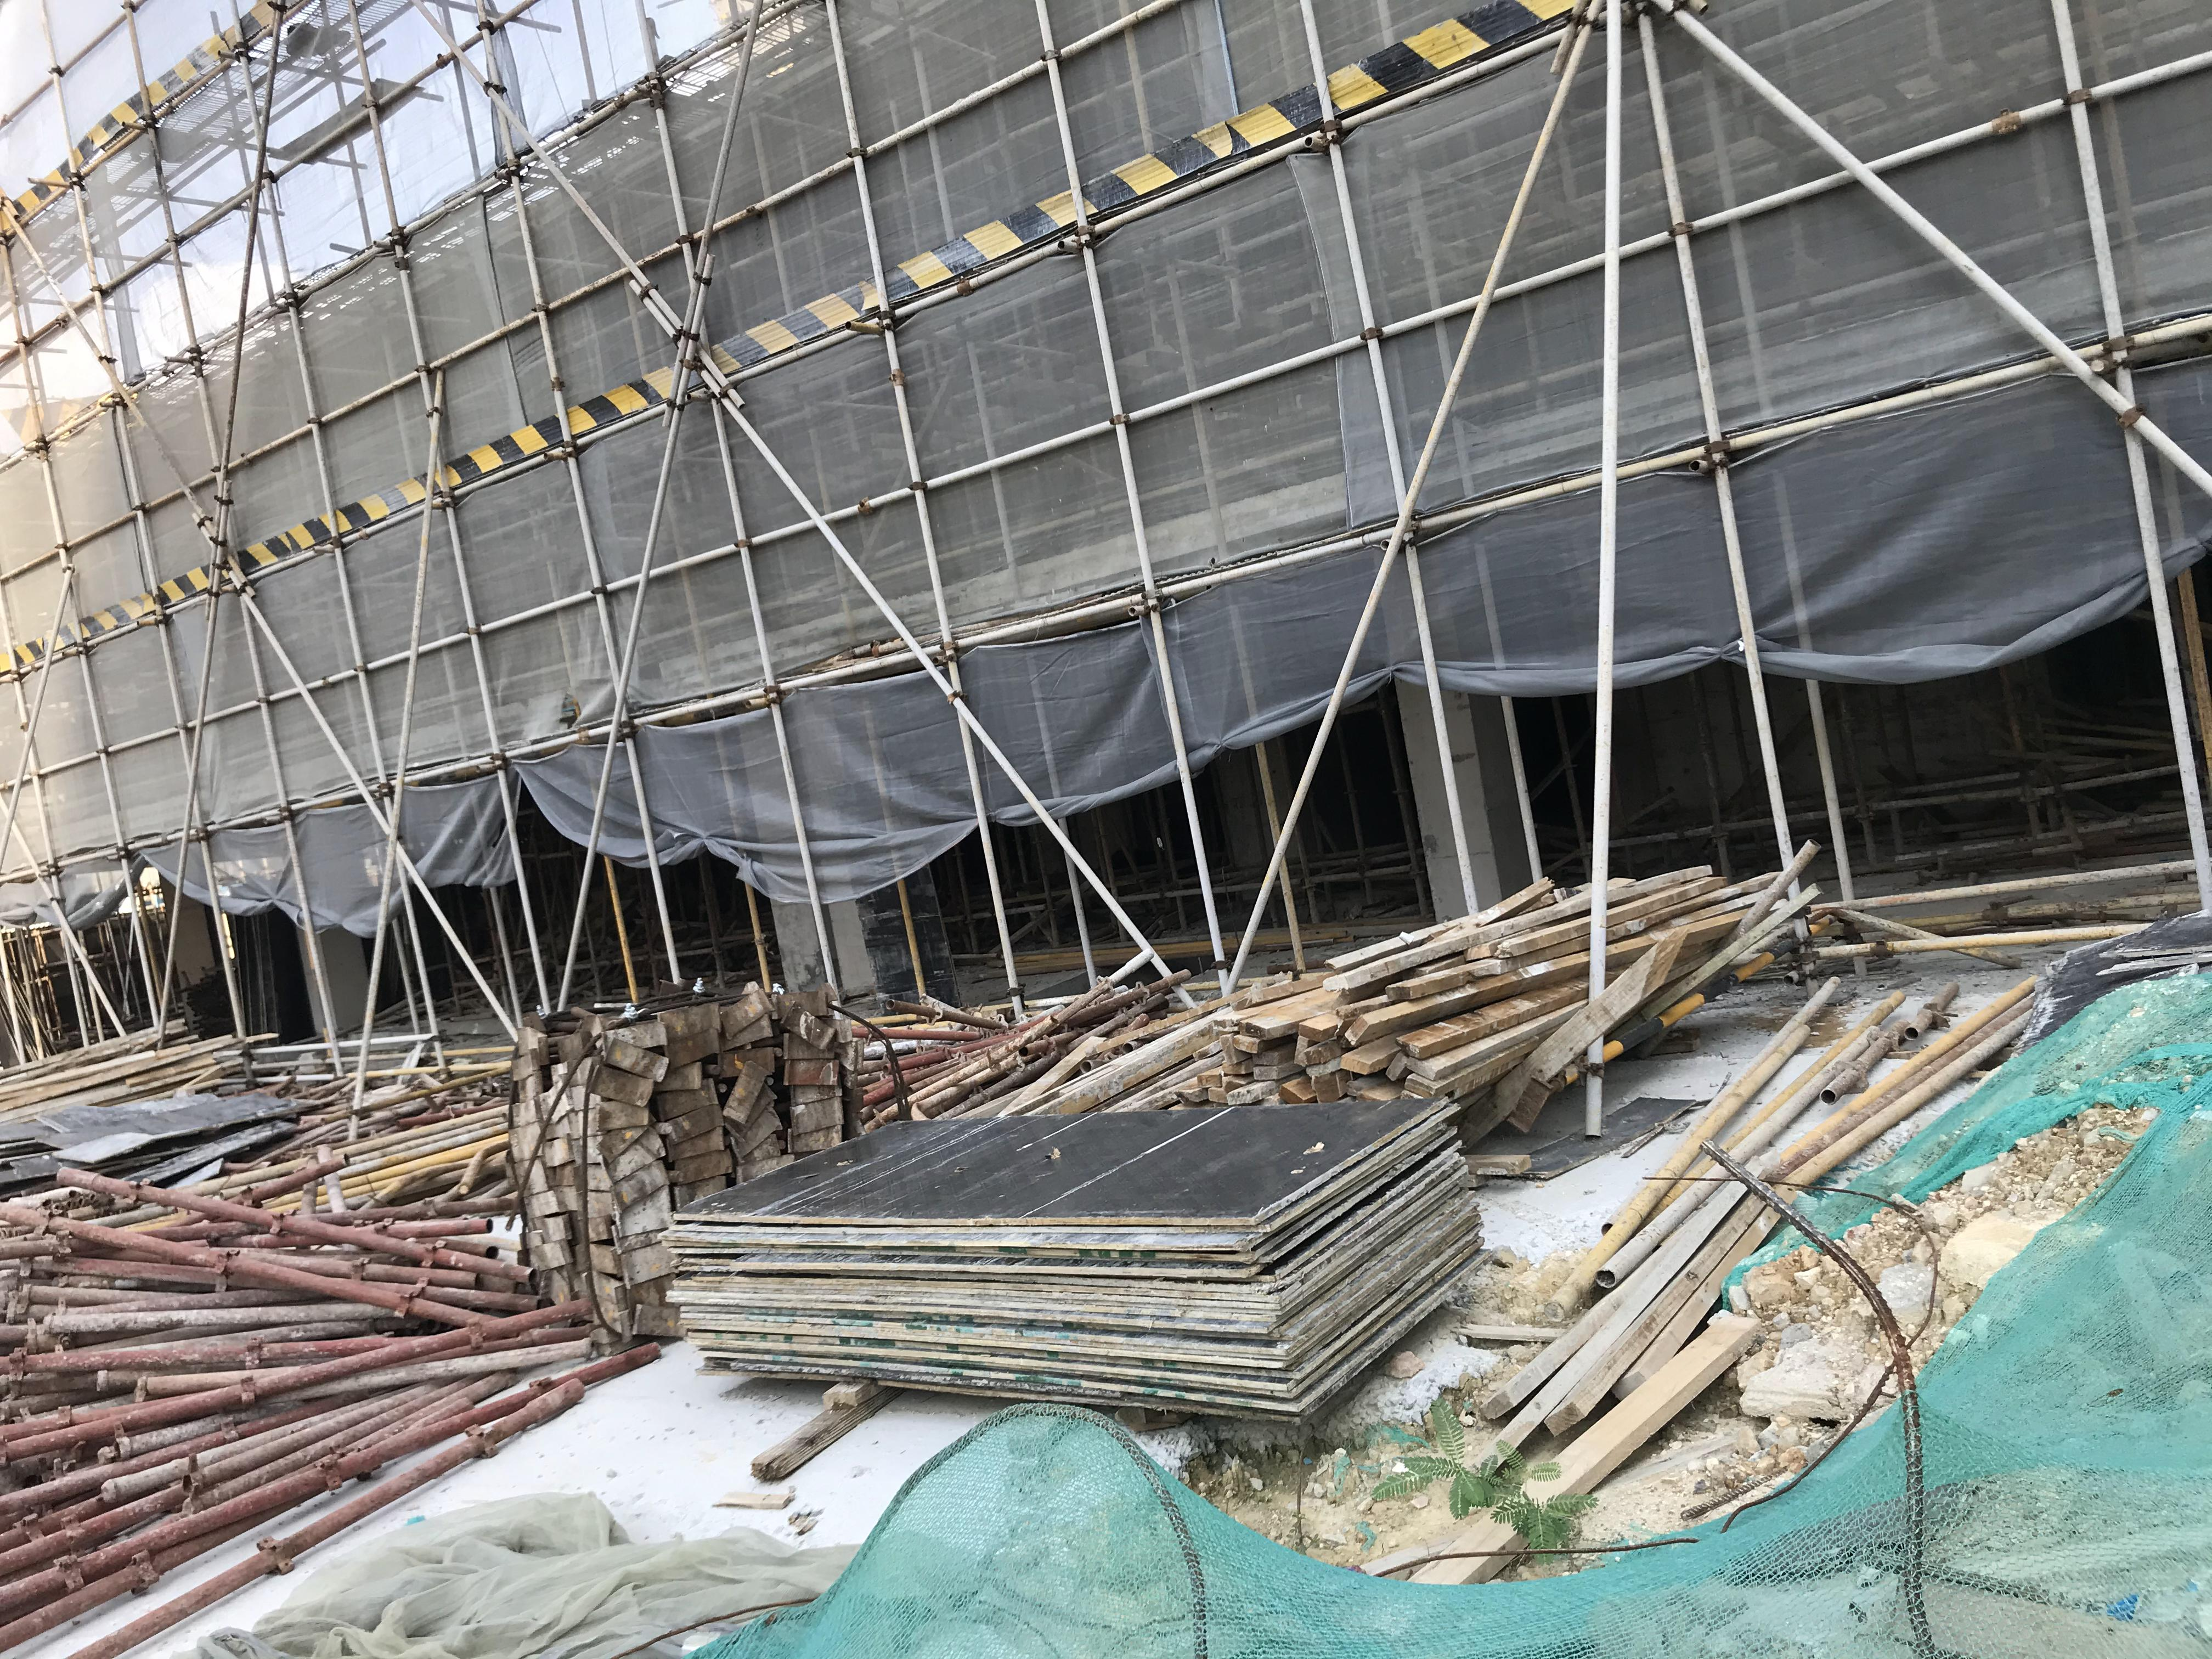board: (655, 1094, 1489, 1425)
wood: (1169, 861, 1785, 1108)
